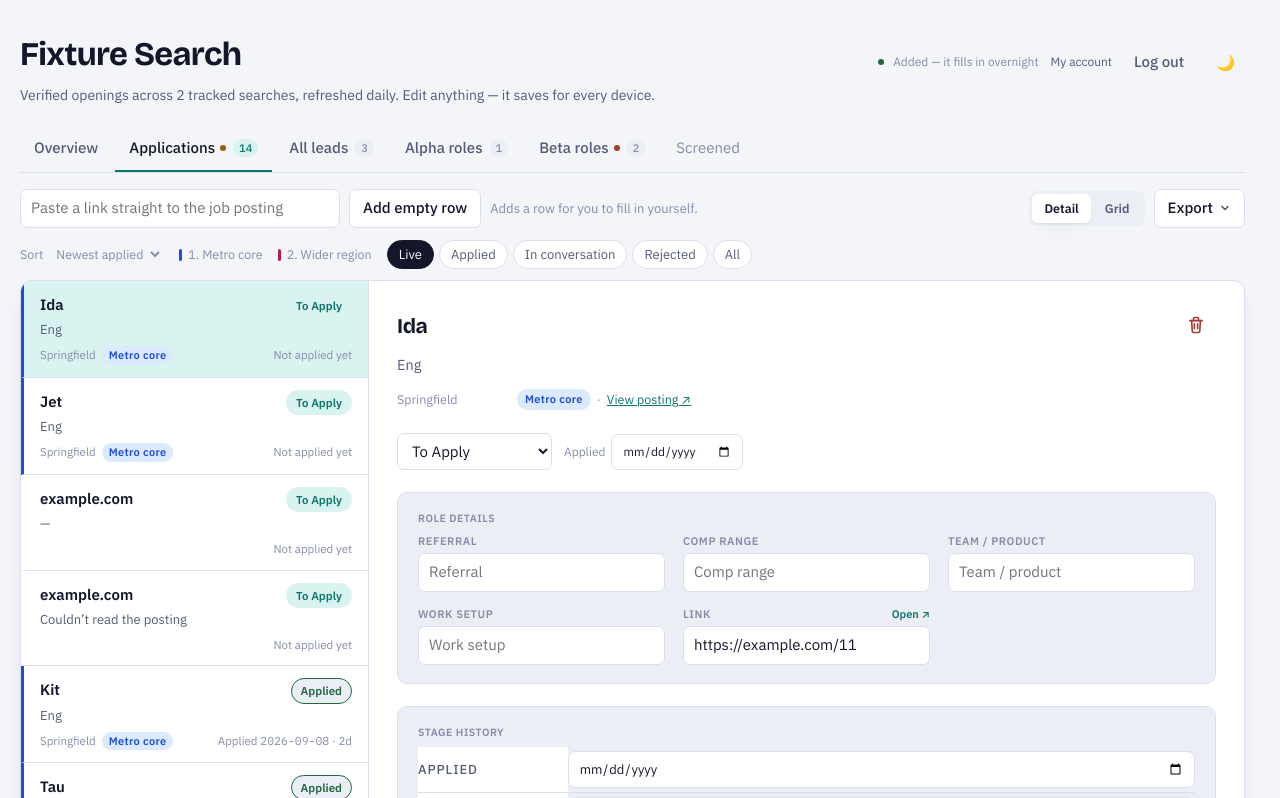
Test: adding an application › says which of its two jobs the button is about to do
This screenshot has width=1280, height=798.
Expected: the heading "Fixture Search" is shown, [20,34,241,74]
Expected: the button "Add empty row" is shown, [349,189,481,228]
Type "https://example.com/x" into the field named "Link to a job posting" at (180, 208), box [20,189,340,228]
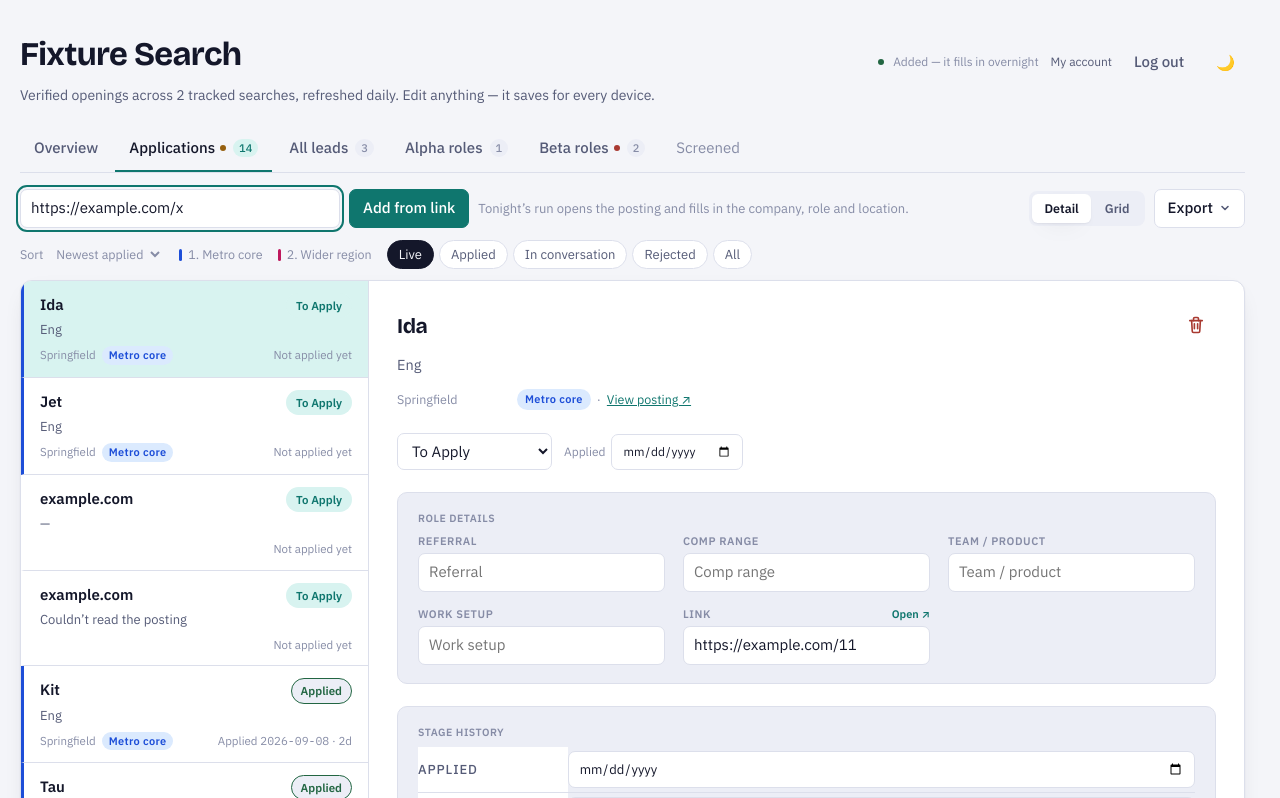
Expected: the button "Add from link" is shown, [349,189,469,228]
